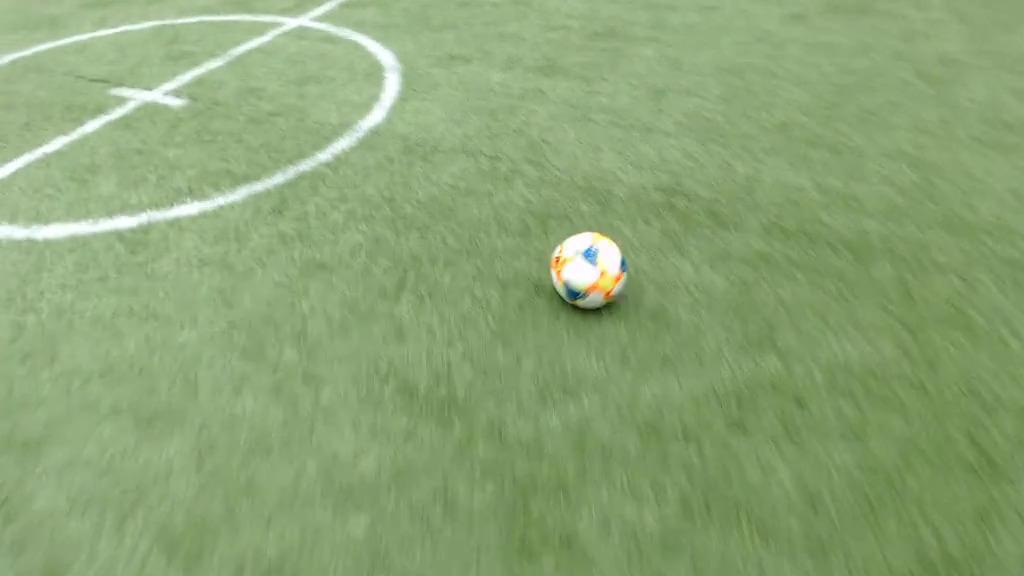ball: (552, 231, 627, 309)
